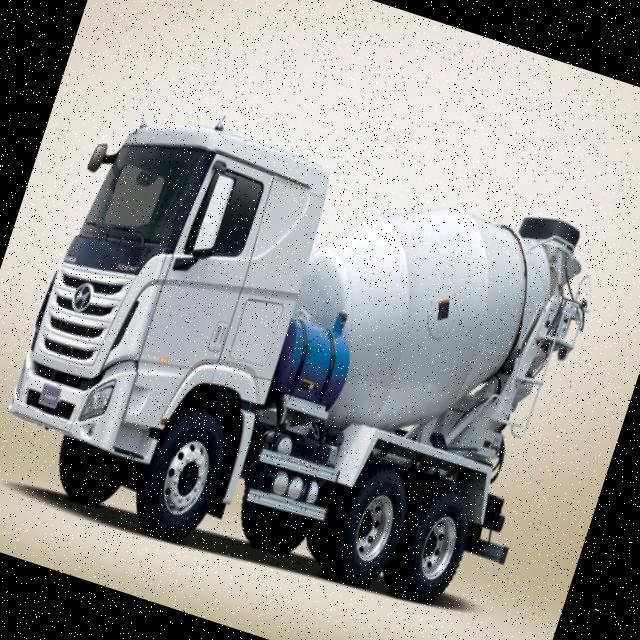Mixer Truck: (0, 75, 610, 640)
